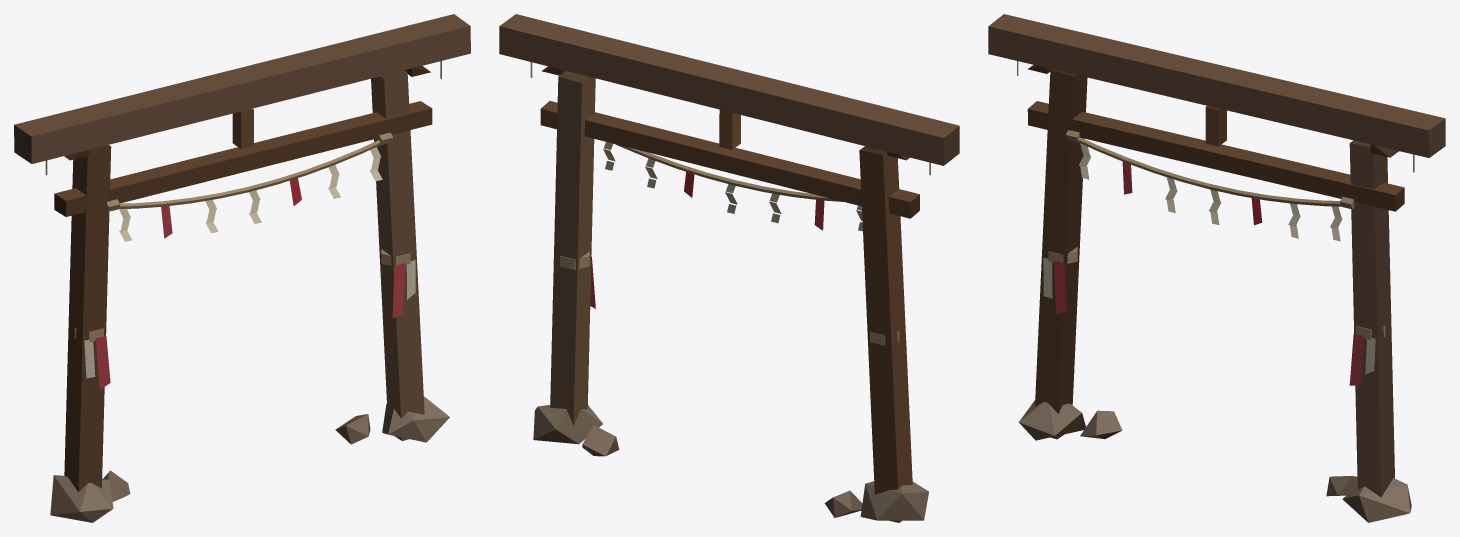
File: tl_env_shrine_gate_v01.glb
3 views of the same model, side by side, from view 1: azimuth 30°, elevation 25°; view 2: azimuth 150°, elevation 25°; view 3: azimuth 330°, elevation 25° (orthographic).
Visible parts, largest first — view 1: tl_env_shrine_gate_v01; view 2: tl_env_shrine_gate_v01; view 3: tl_env_shrine_gate_v01.
Boxes of the visible parts, <box> form: tl_env_shrine_gate_v01: <box>14,14,470,522</box>; tl_env_shrine_gate_v01: <box>499,14,959,522</box>; tl_env_shrine_gate_v01: <box>988,14,1445,522</box>.
Bounding box in the file's own units: 4.51 × 3.9 × 0.6204.
